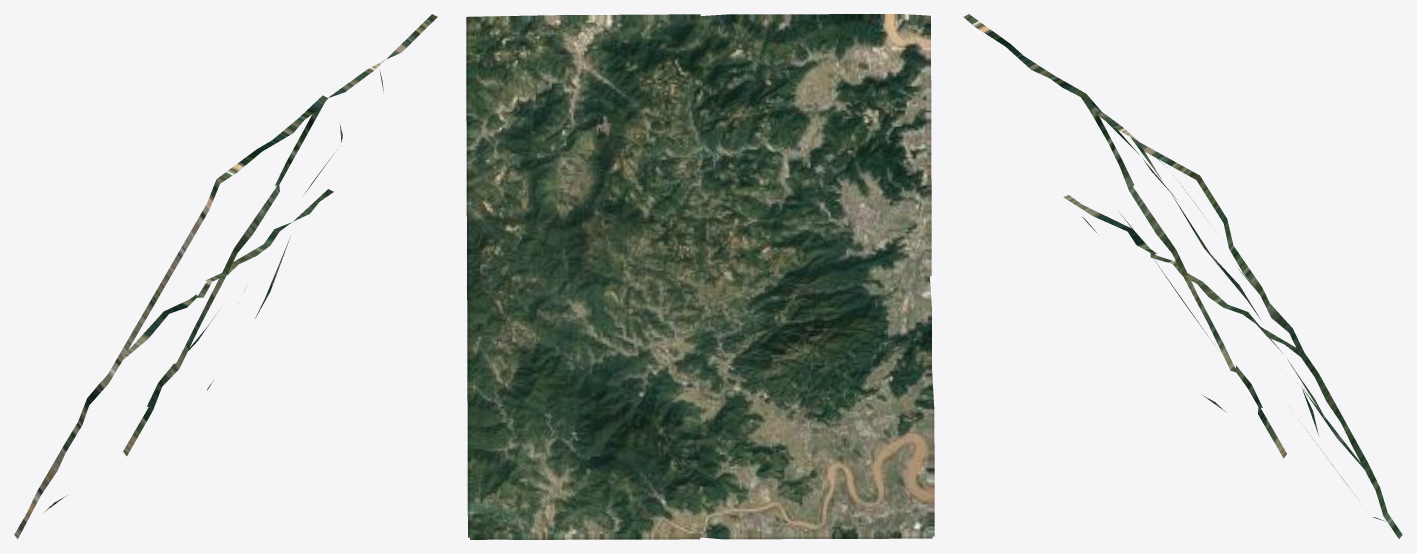
The picture shows the model from 3 angles, left to right: view 1: azimuth 30°, elevation 25°; view 2: azimuth 150°, elevation 25°; view 3: azimuth 270°, elevation 25°; orthographic projection. The views are drawn at different scales.
Size of the model in its own units: 39383 by 35293 by 33826.
Materials: 1 (1 with a texture image).
